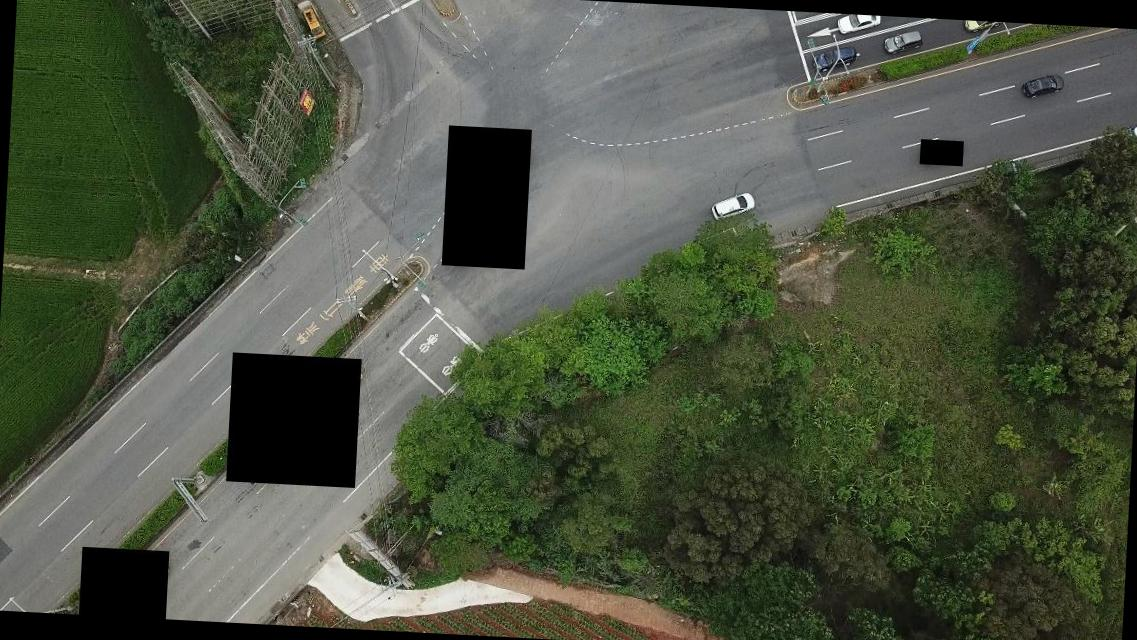vehicle: (710, 190, 755, 222), (812, 44, 854, 72), (882, 28, 924, 56), (1020, 72, 1064, 98), (985, 158, 1025, 184), (835, 14, 880, 36), (300, 8, 325, 40), (962, 22, 1006, 36), (1124, 122, 1136, 143)
